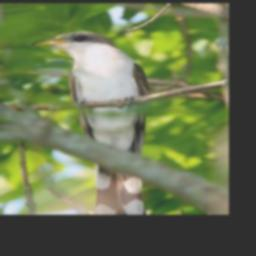Cuckoo: (28, 29, 153, 214)
